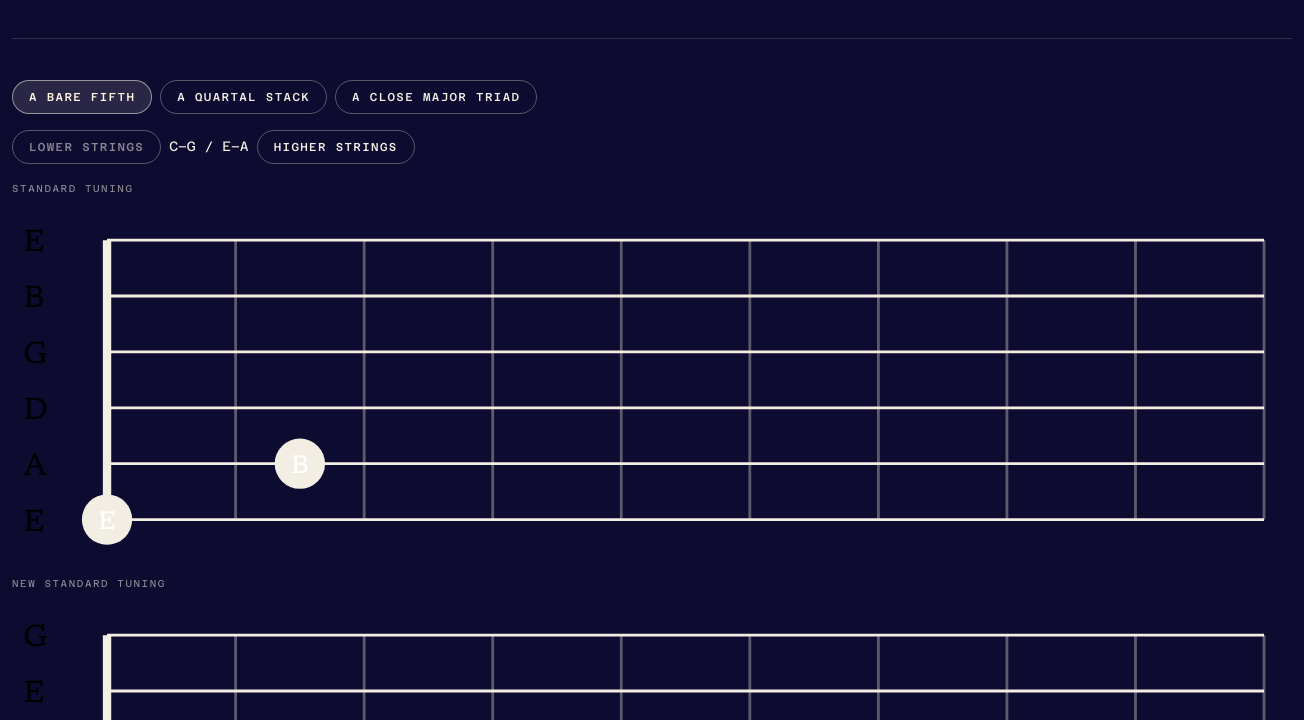
Test: Fretboards › dragging to the G–B set shows standard mutating while NST holds
Click the button "Higher strings": (336, 147) [257,130,415,164]
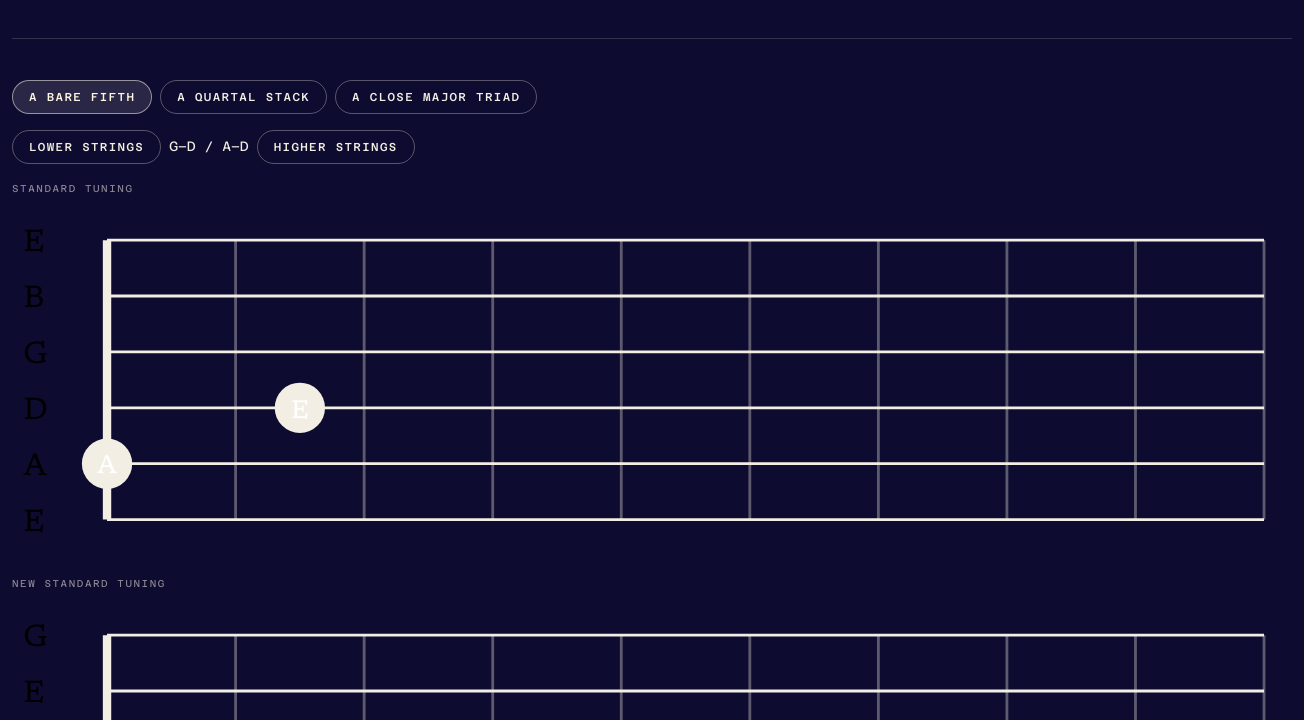
Click the button "Higher strings": (336, 147) [257,130,415,164]
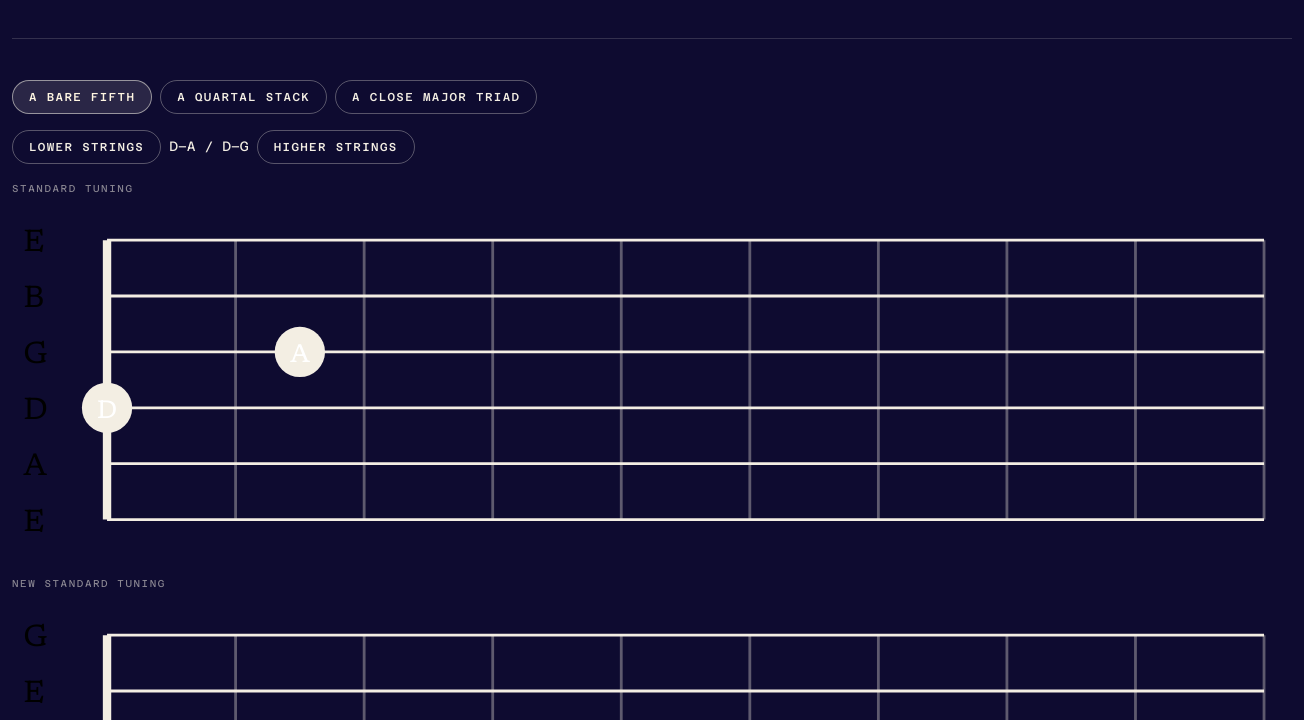
Click the button "Higher strings": (336, 147) [257,130,415,164]
(page scrolled)
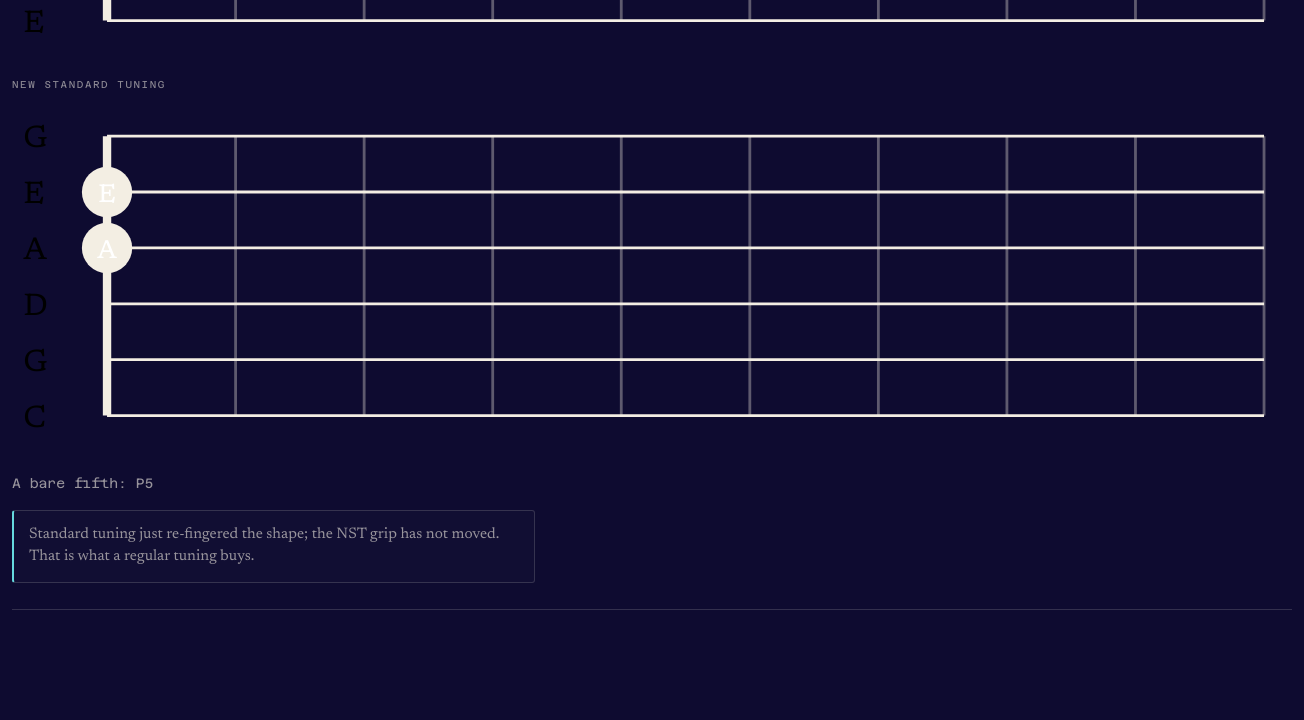
Check: the text "Standard tuning just re-fingered" is shown, box [29,527,499,564]
